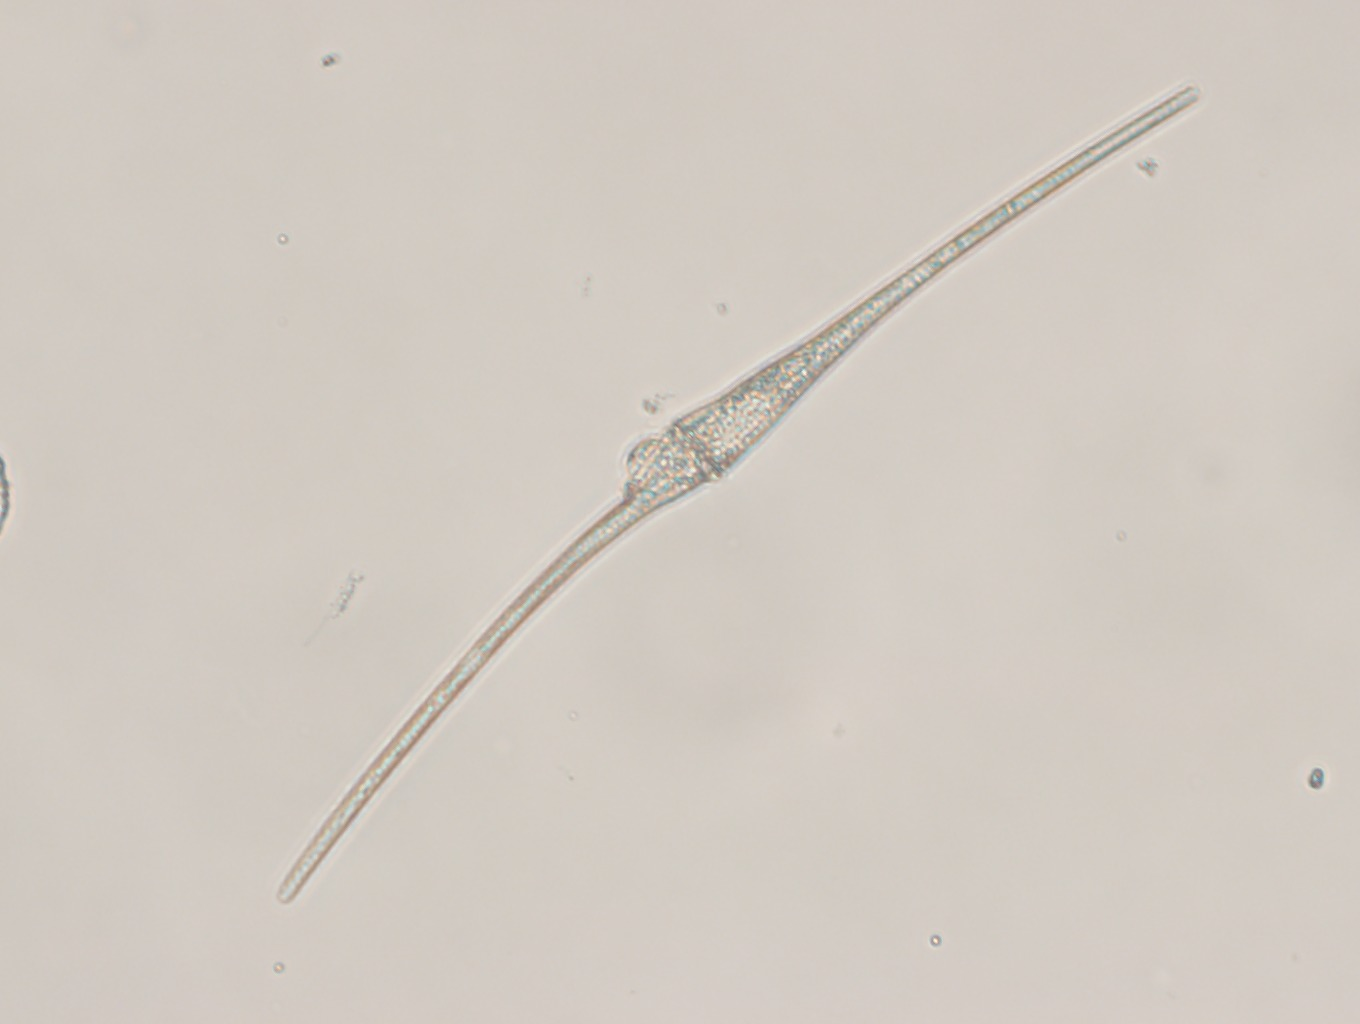ceratium fusus: (269, 80, 1205, 904)
